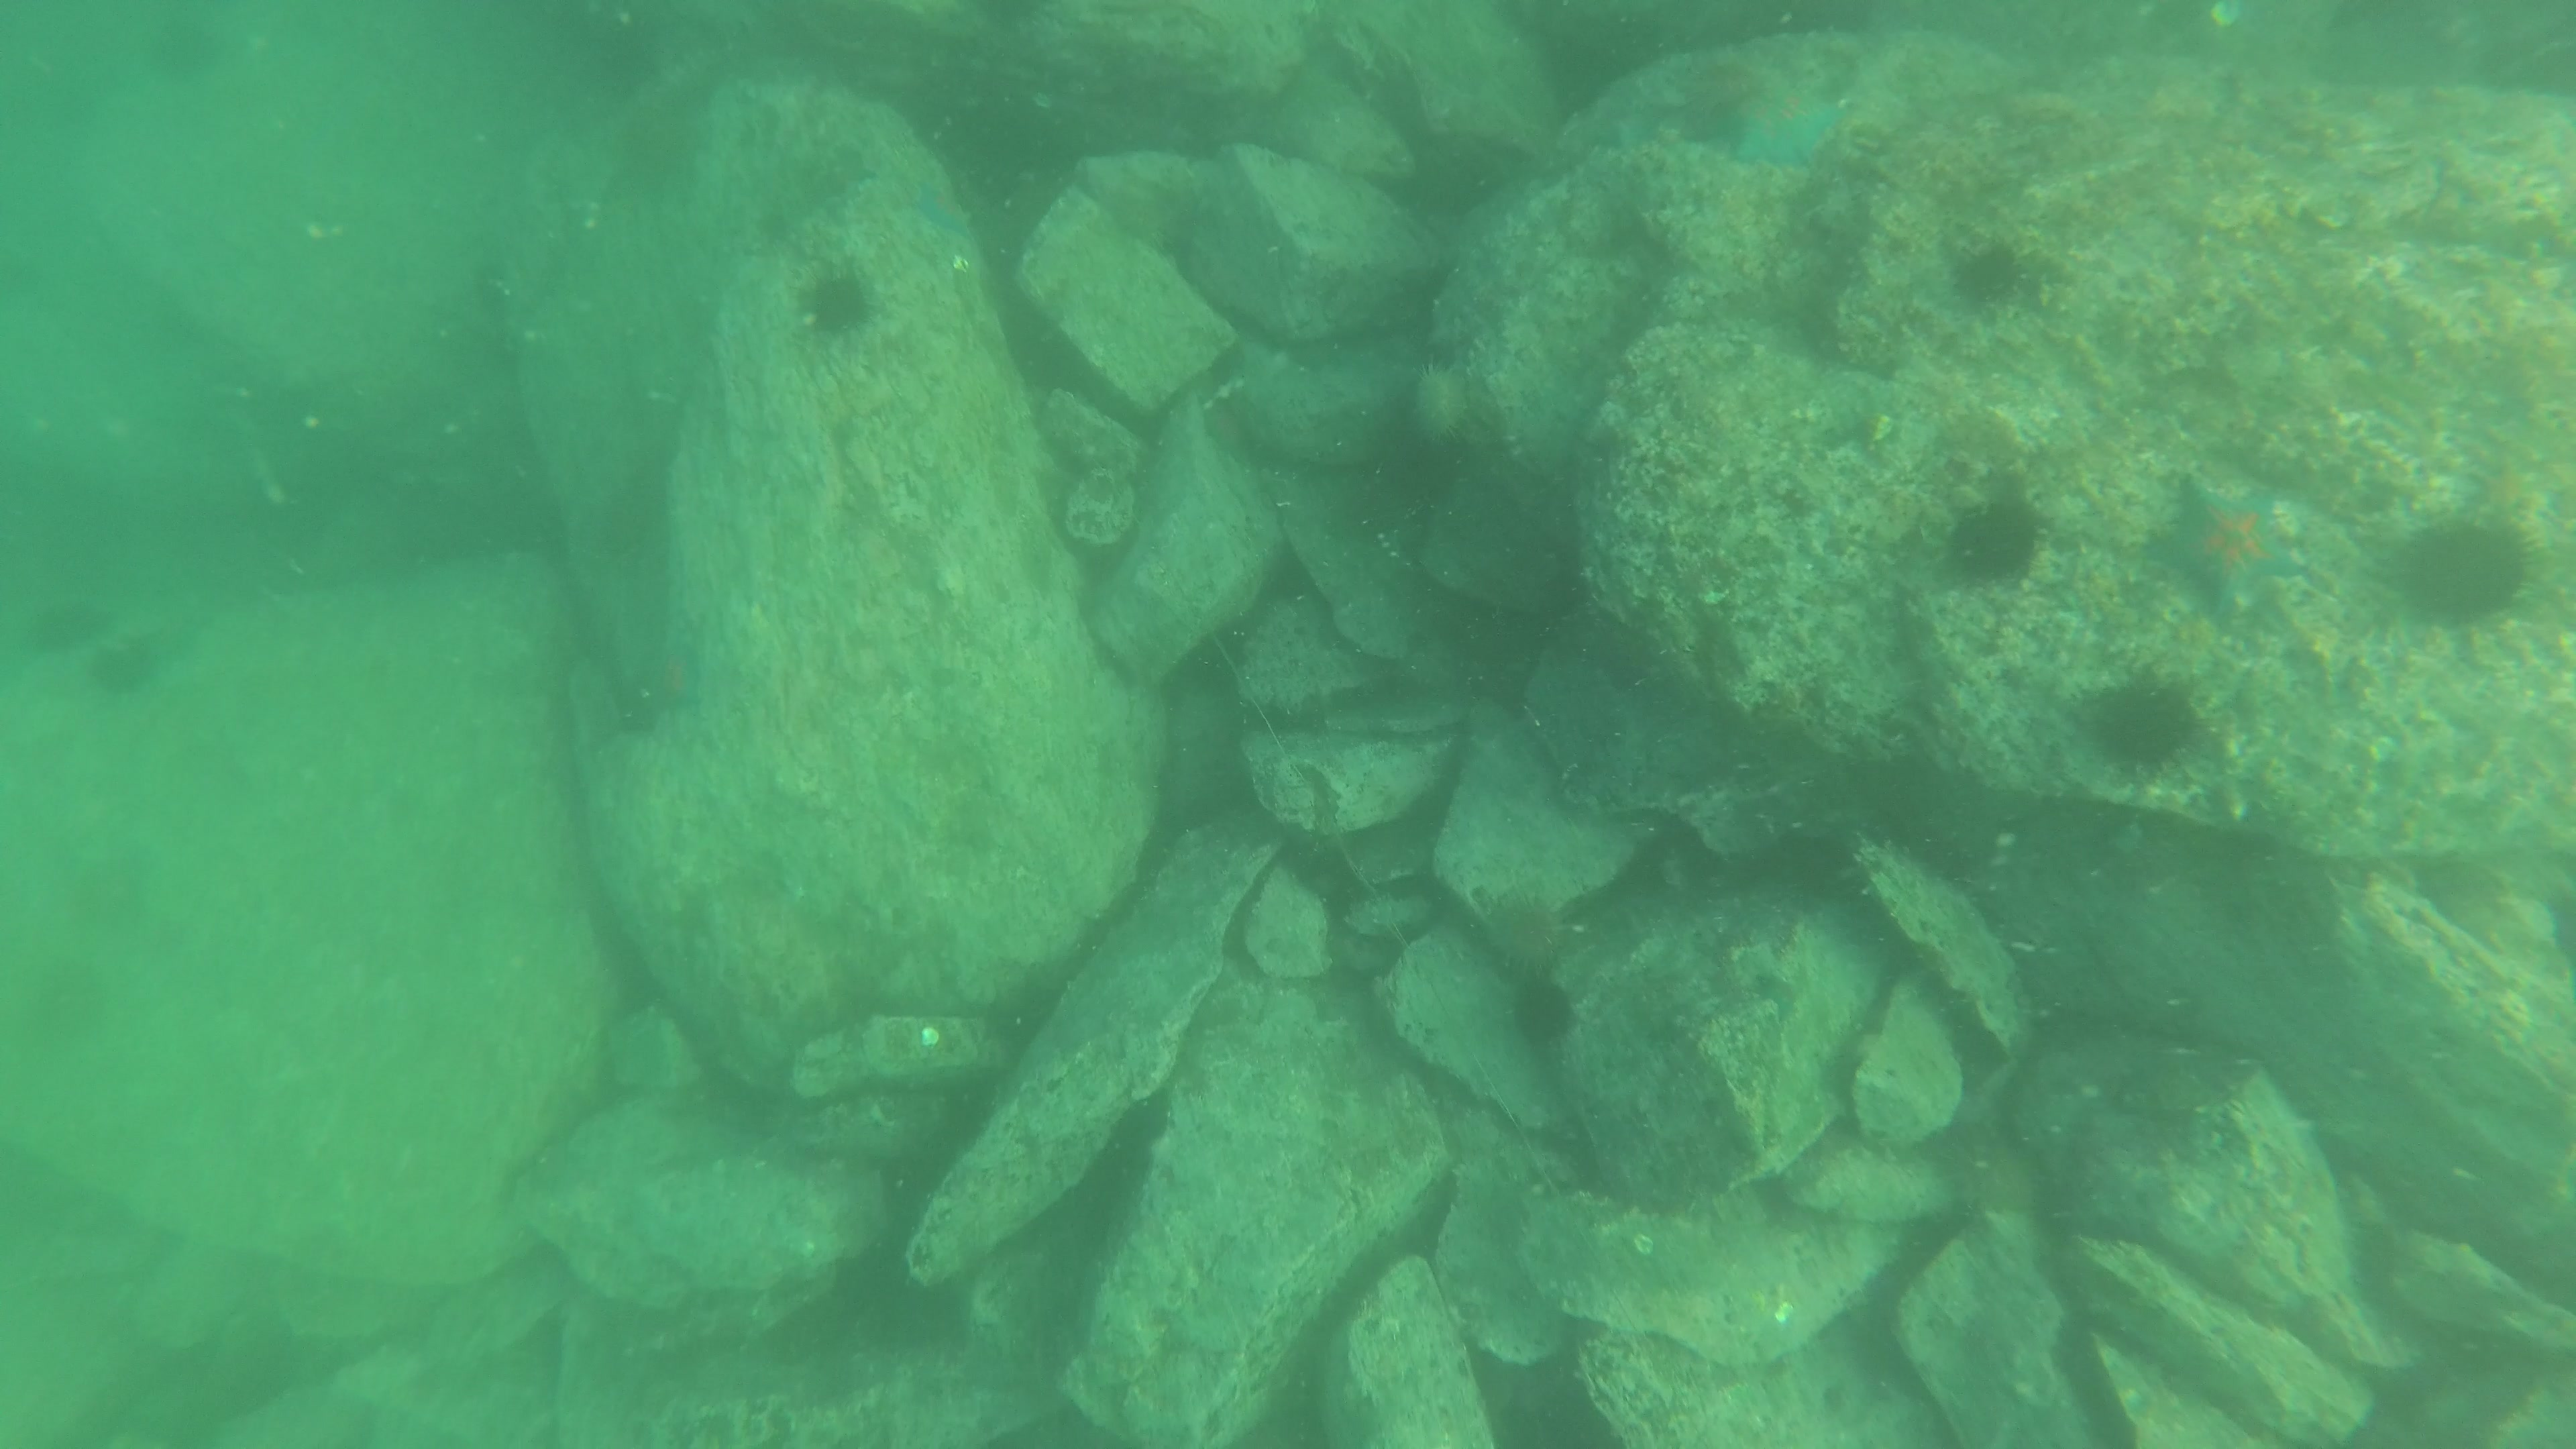echinus: (2399, 494, 2530, 633), (2081, 678, 2217, 764), (1941, 488, 2052, 591), (1477, 883, 1580, 982), (1405, 345, 1484, 451), (801, 267, 874, 340), (85, 633, 165, 695), (1962, 246, 2029, 315)
starfish: (2158, 458, 2311, 626), (1711, 51, 1858, 163)
